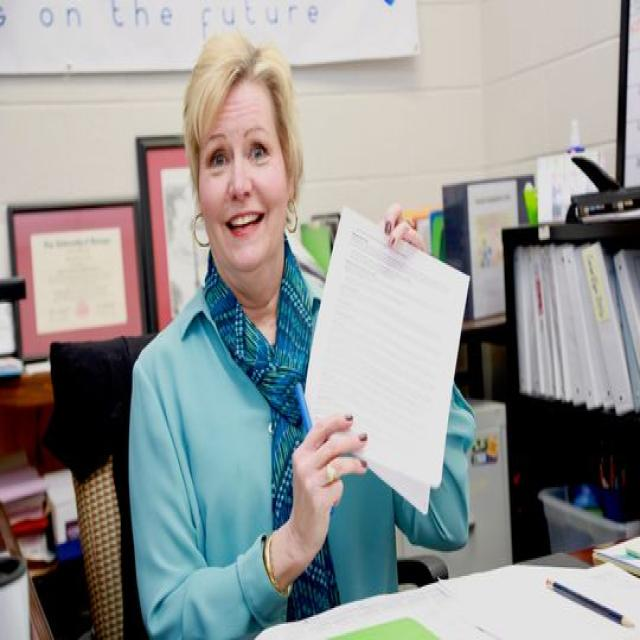human: (124, 17, 476, 640)
